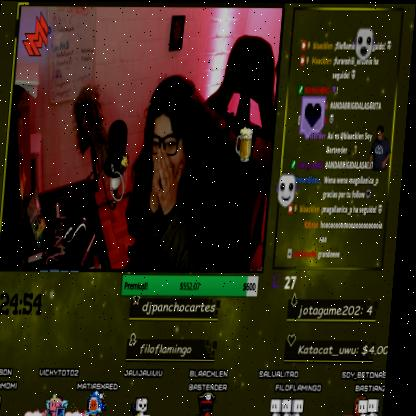streamer: (124, 73, 243, 271)
